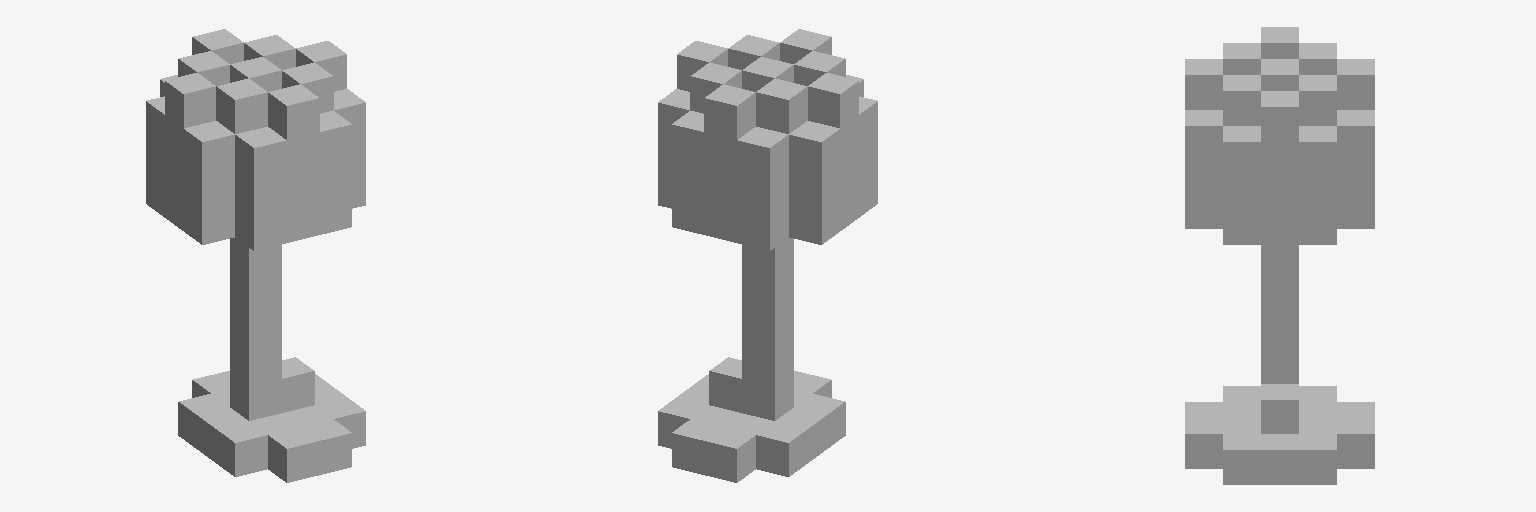
File: lamp.obj
3 renders of one model, left to right at view 1: azimuth 30°, elevation 25°; view 2: azimuth 150°, elevation 25°; view 3: azimuth 270°, elevation 25°, orthographic.
Parts seen in each view (by area): view 1: lamp; view 2: lamp; view 3: lamp.
Part boxes in pixels (bbox=[...]): lamp: bbox=[146, 29, 365, 482]; lamp: bbox=[658, 29, 877, 482]; lamp: bbox=[1185, 27, 1374, 484].
Bounding box in the file's own units: 5 × 11 × 5.